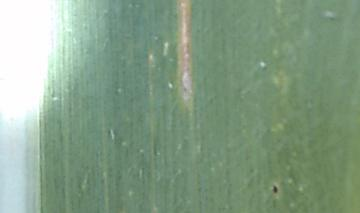tarspot: (270, 181, 280, 197)
